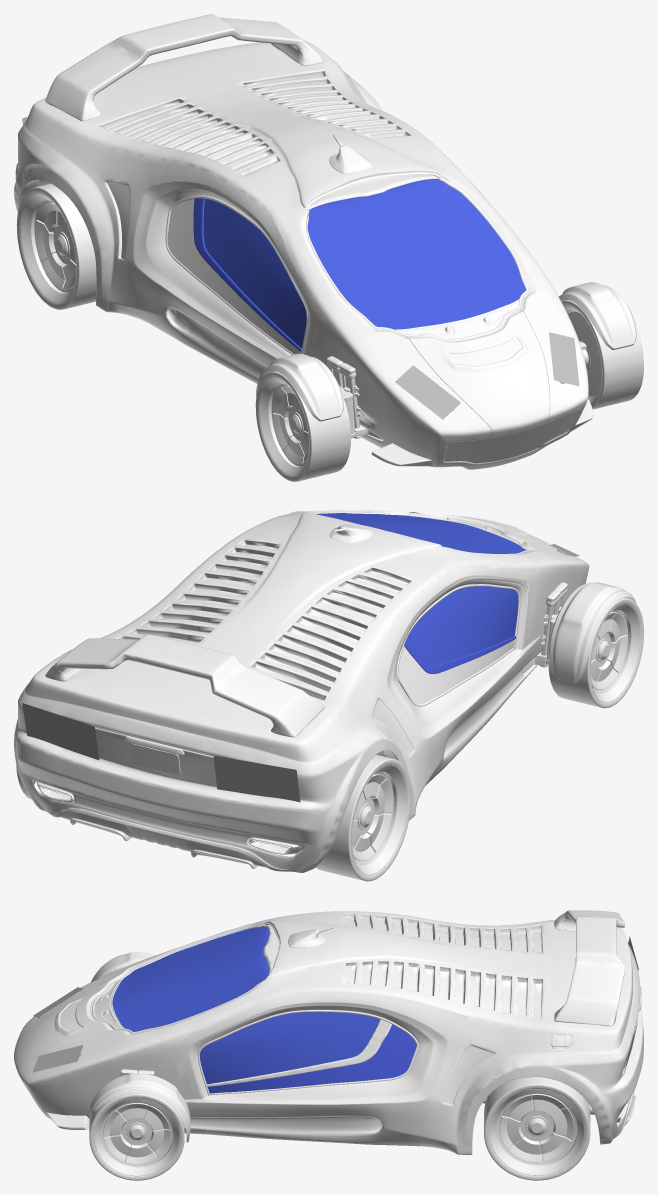
Rendered from SkyCar.fbx.
The picture shows the model from 3 angles, top to bottom: view 1: azimuth 30°, elevation 25°; view 2: azimuth 150°, elevation 25°; view 3: azimuth 270°, elevation 25°; orthographic projection. The views are drawn at different scales.
Parts seen in each view (by area): view 1: SkyCarBody, SkyCarComponents, SkyCarWheelRearRight, SkyCarWheelFrontRight, SkyCarWheelFrontLeft, SkyCarMudGuardFrontRight, SkyCarMudGuardFrontLeft, SkyCarHeadLightsGlow; view 2: SkyCarBody, SkyCarComponents, SkyCarWheelRearRight, SkyCarWheelFrontRight, SkyCarBrakeLightsGlow, SkyCarMudGuardFrontRight; view 3: SkyCarBody, SkyCarDoor, SkyCarWheelRearLeft, SkyCarWheelFrontLeft, SkyCarMudGuardFrontLeft, SkyCarComponents, SkyCarHeadLightsGlow, SkyCarMudGuardFrontRight.
Part boxes in pixels (box(x1,y1,x2,y2)): SkyCarBody: box(14, 14, 588, 469); SkyCarComponents: box(167, 135, 593, 466); SkyCarWheelRearRight: box(16, 183, 96, 309); SkyCarWheelFrontRight: box(255, 371, 350, 481); SkyCarWheelFrontLeft: box(561, 299, 643, 409); SkyCarMudGuardFrontRight: box(256, 353, 343, 421); SkyCarMudGuardFrontLeft: box(559, 282, 636, 349); SkyCarHeadLightsGlow: box(395, 332, 579, 419); SkyCarBody: box(14, 510, 589, 872); SkyCarComponents: box(37, 524, 572, 868); SkyCarWheelRearRight: box(316, 754, 411, 881); SkyCarWheelFrontRight: box(548, 597, 643, 708); SkyCarBrakeLightsGlow: box(22, 703, 300, 802); SkyCarMudGuardFrontRight: box(548, 582, 636, 683); SkyCarBody: box(14, 910, 643, 1154); SkyCarDoor: box(178, 991, 468, 1146); SkyCarWheelRearLeft: box(484, 1077, 590, 1180); SkyCarWheelFrontLeft: box(89, 1093, 184, 1180); SkyCarMudGuardFrontLeft: box(90, 1073, 190, 1142); SkyCarComponents: box(38, 927, 641, 1129); SkyCarHeadLightsGlow: box(32, 987, 83, 1072); SkyCarMudGuardFrontRight: box(90, 952, 155, 982).
Bounding box in the file's own units: 2.32 × 1.45 × 4.47.
